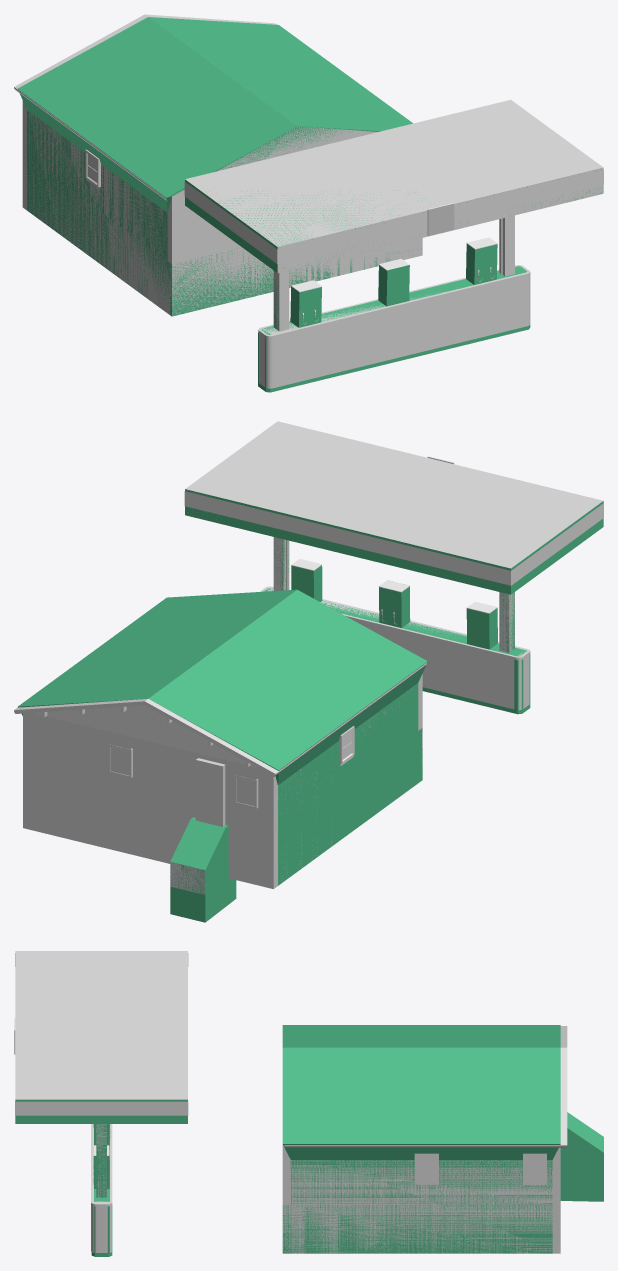
File: eca_bld_gastation.dae
3 views of the same model, one above another, from view 1: azimuth 30°, elevation 25°; view 2: azimuth 150°, elevation 25°; view 3: azimuth 270°, elevation 25° (orthographic). The views are drawn at different scales.
Parts seen in each view (by area): view 1: Colmesh-1, ind_bld_a500, ind_bld_a100, ind_bld_a60; view 2: Colmesh-1, ind_bld_a100, ind_bld_a500, ind_bld_a60; view 3: Colmesh-1, ind_bld_a500, ind_bld_a60, ind_bld_a100.
Part boxes in pixels (<box>): Colmesh-1: <box>17,17,603,392</box>; ind_bld_a500: <box>14,14,603,388</box>; ind_bld_a100: <box>86,149,603,387</box>; ind_bld_a60: <box>22,101,421,316</box>; Colmesh-1: <box>18,489,603,922</box>; ind_bld_a100: <box>14,489,603,894</box>; ind_bld_a500: <box>14,421,603,893</box>; ind_bld_a60: <box>23,674,422,888</box>; Colmesh-1: <box>15,1025,603,1256</box>; ind_bld_a500: <box>14,951,567,1252</box>; ind_bld_a60: <box>282,1144,560,1253</box>; ind_bld_a100: <box>15,953,546,1190</box>.
Size of the model in its own units: 13.02 by 21.85 by 8.09.
